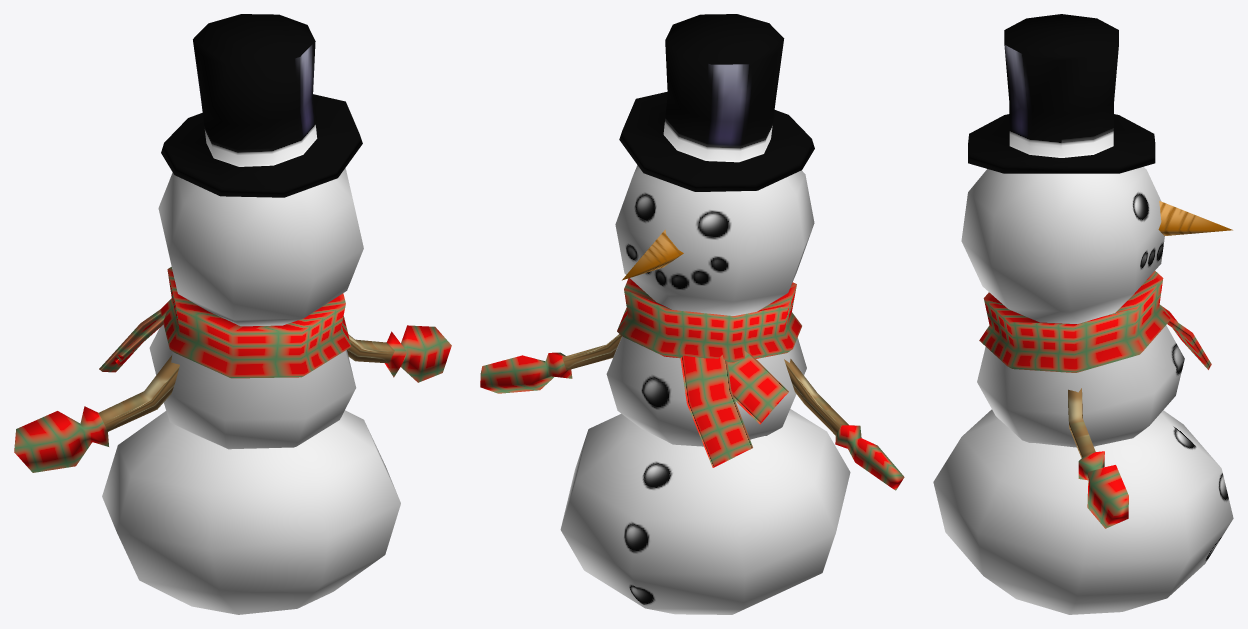
File: Snowman_parts_1_FBX.FBX
3 renders of one model, left to right at view 1: azimuth 30°, elevation 25°; view 2: azimuth 150°, elevation 25°; view 3: azimuth 270°, elevation 25°, orthographic. The views are drawn at different scales.
Parts seen in each view (by area): view 1: body_upper, body_lower, hat, arm_left, arm_right; view 2: body_upper, body_lower, hat, arm_right, arm_left; view 3: body_upper, body_lower, hat, arm_right.
Boxes of the visible parts, <box> form: body_upper: <box>99,168,363,449</box>; body_lower: <box>102,410,400,614</box>; hat: <box>161,14,362,197</box>; arm_left: <box>14,355,179,472</box>; arm_right: <box>347,325,451,382</box>; body_upper: <box>606,165,814,467</box>; body_lower: <box>560,409,850,614</box>; hat: <box>619,14,814,191</box>; arm_right: <box>480,334,621,393</box>; arm_left: <box>784,359,904,490</box>; body_upper: <box>961,167,1232,447</box>; body_lower: <box>933,409,1233,614</box>; hat: <box>968,14,1155,173</box>; arm_right: <box>1068,388,1128,528</box>.
Bounding box in the file's own units: 819 × 1020 × 499.
